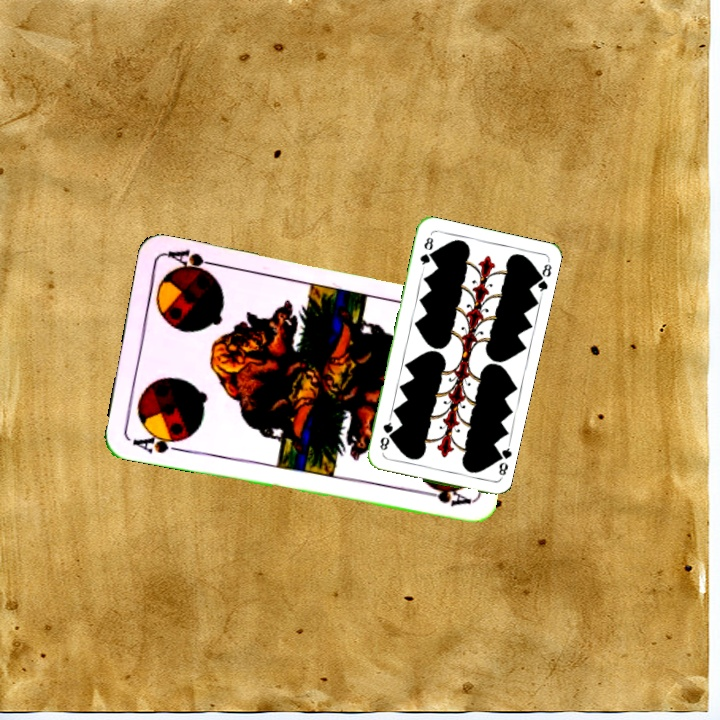G8: (491, 442, 514, 482), (416, 233, 436, 271)
SA: (128, 427, 188, 456)
